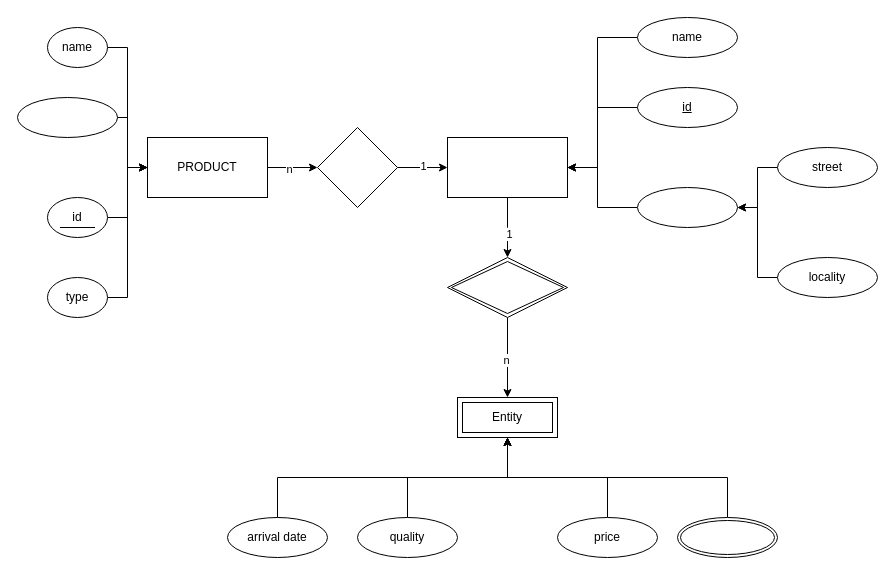
This 895x575 diagram has some shape labels left out. The box of each missing label's shape, as (x1, y1, x2, y2) in pixels:
address: (636, 186, 738, 228)
checks: (446, 256, 568, 318)
CUSTOMER: (446, 136, 568, 198)
ordered by: (316, 126, 398, 208)
products: (676, 516, 778, 558)
size: (16, 96, 118, 138)
